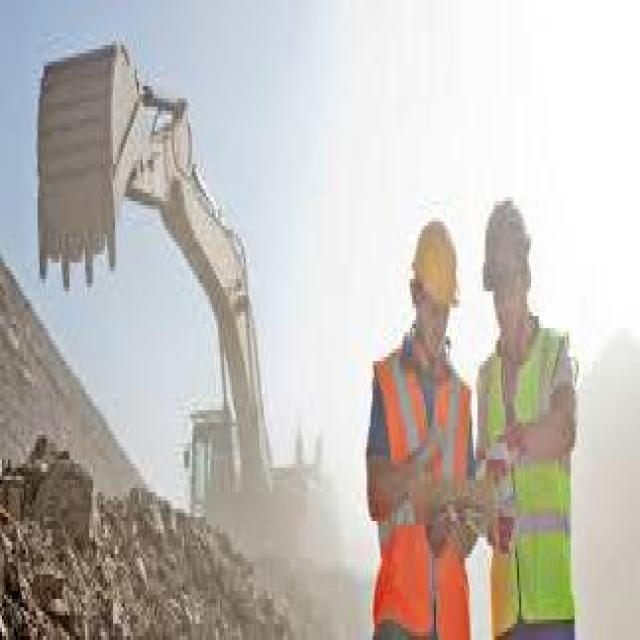Reflective-Jacket: (356, 336, 474, 636), (479, 316, 588, 632)
Safety-Helmet: (398, 201, 466, 328), (475, 172, 541, 283)
